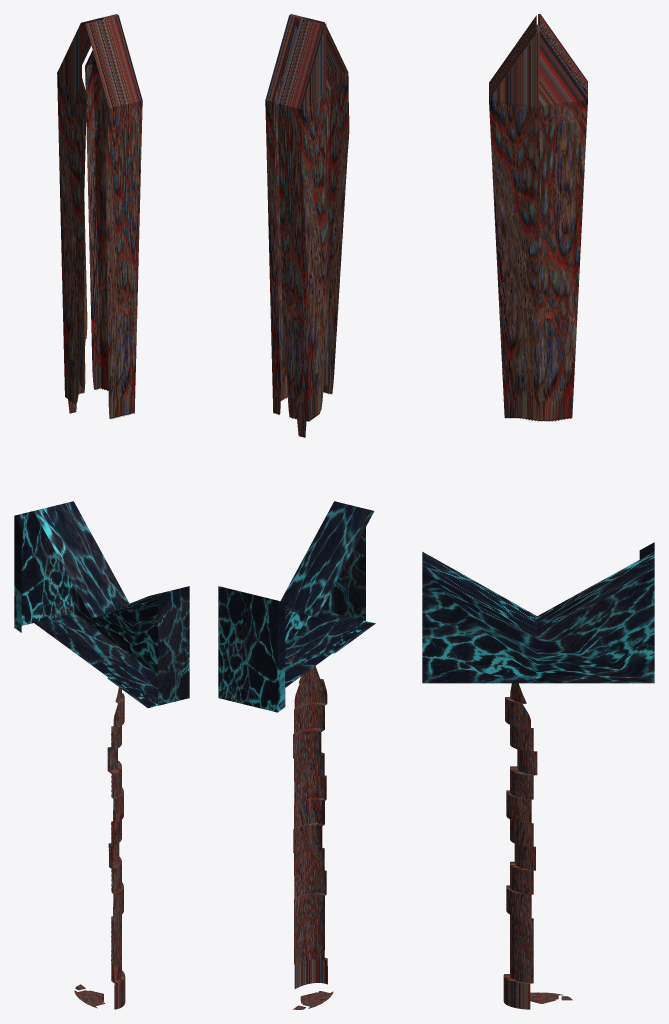
The model's file is Sword_SpaceOdyseey.fbx.
The picture shows the model from 3 angles, left to right: view 1: azimuth 30°, elevation 25°; view 2: azimuth 150°, elevation 25°; view 3: azimuth 270°, elevation 25°; orthographic projection.
Visible parts, largest first — view 1: Cube.001, Cube; view 2: Cube.001, Cube; view 3: Cube.001, Cube.
Boxes of the visible parts, x1,y1,x2,y2 form: Cube.001: [57, 14, 142, 1009]; Cube: [14, 501, 189, 708]; Cube.001: [265, 14, 349, 1009]; Cube: [218, 501, 375, 712]; Cube.001: [489, 14, 587, 1009]; Cube: [422, 542, 654, 683].
Bounding box in the file's own units: 49.98 × 758 × 163.
2 materials, 2 textured.
